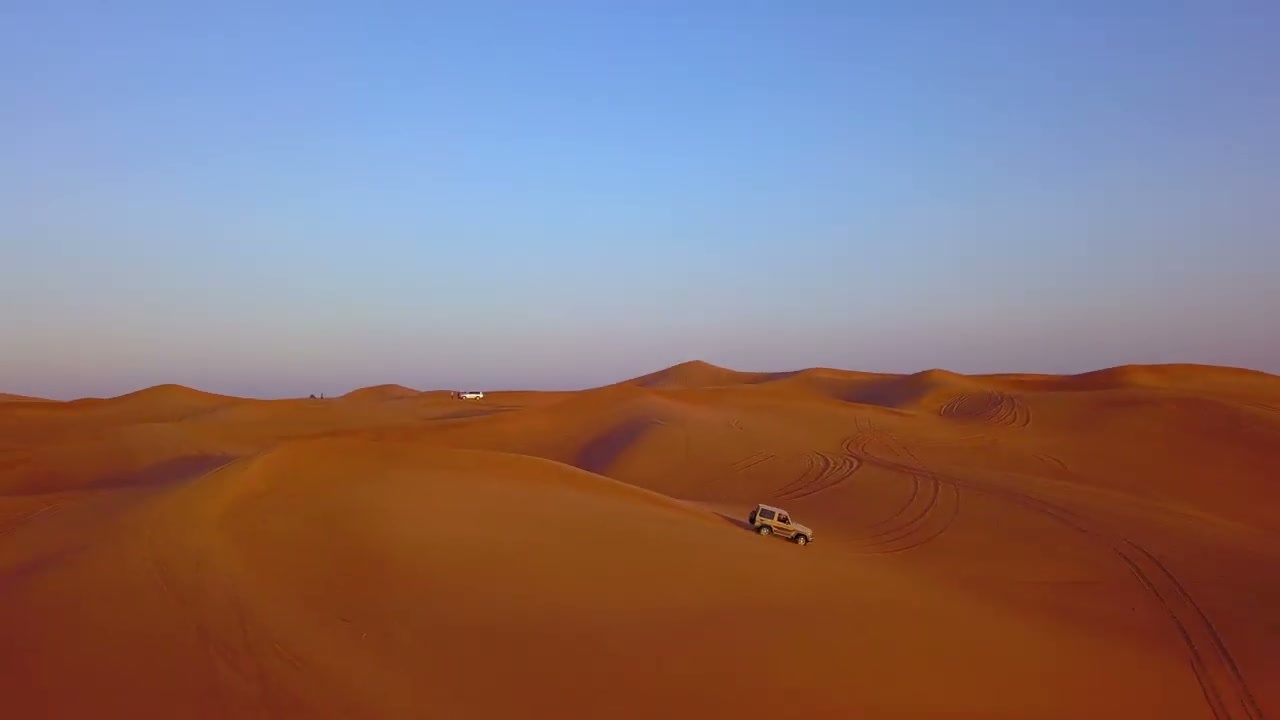vehicle_track: (930, 472, 1263, 719), (988, 488, 1262, 719), (843, 420, 959, 553), (773, 452, 859, 499), (939, 390, 1029, 427), (0, 503, 60, 534), (730, 451, 774, 471), (1034, 454, 1068, 471), (1245, 402, 1279, 412), (729, 417, 743, 430)
